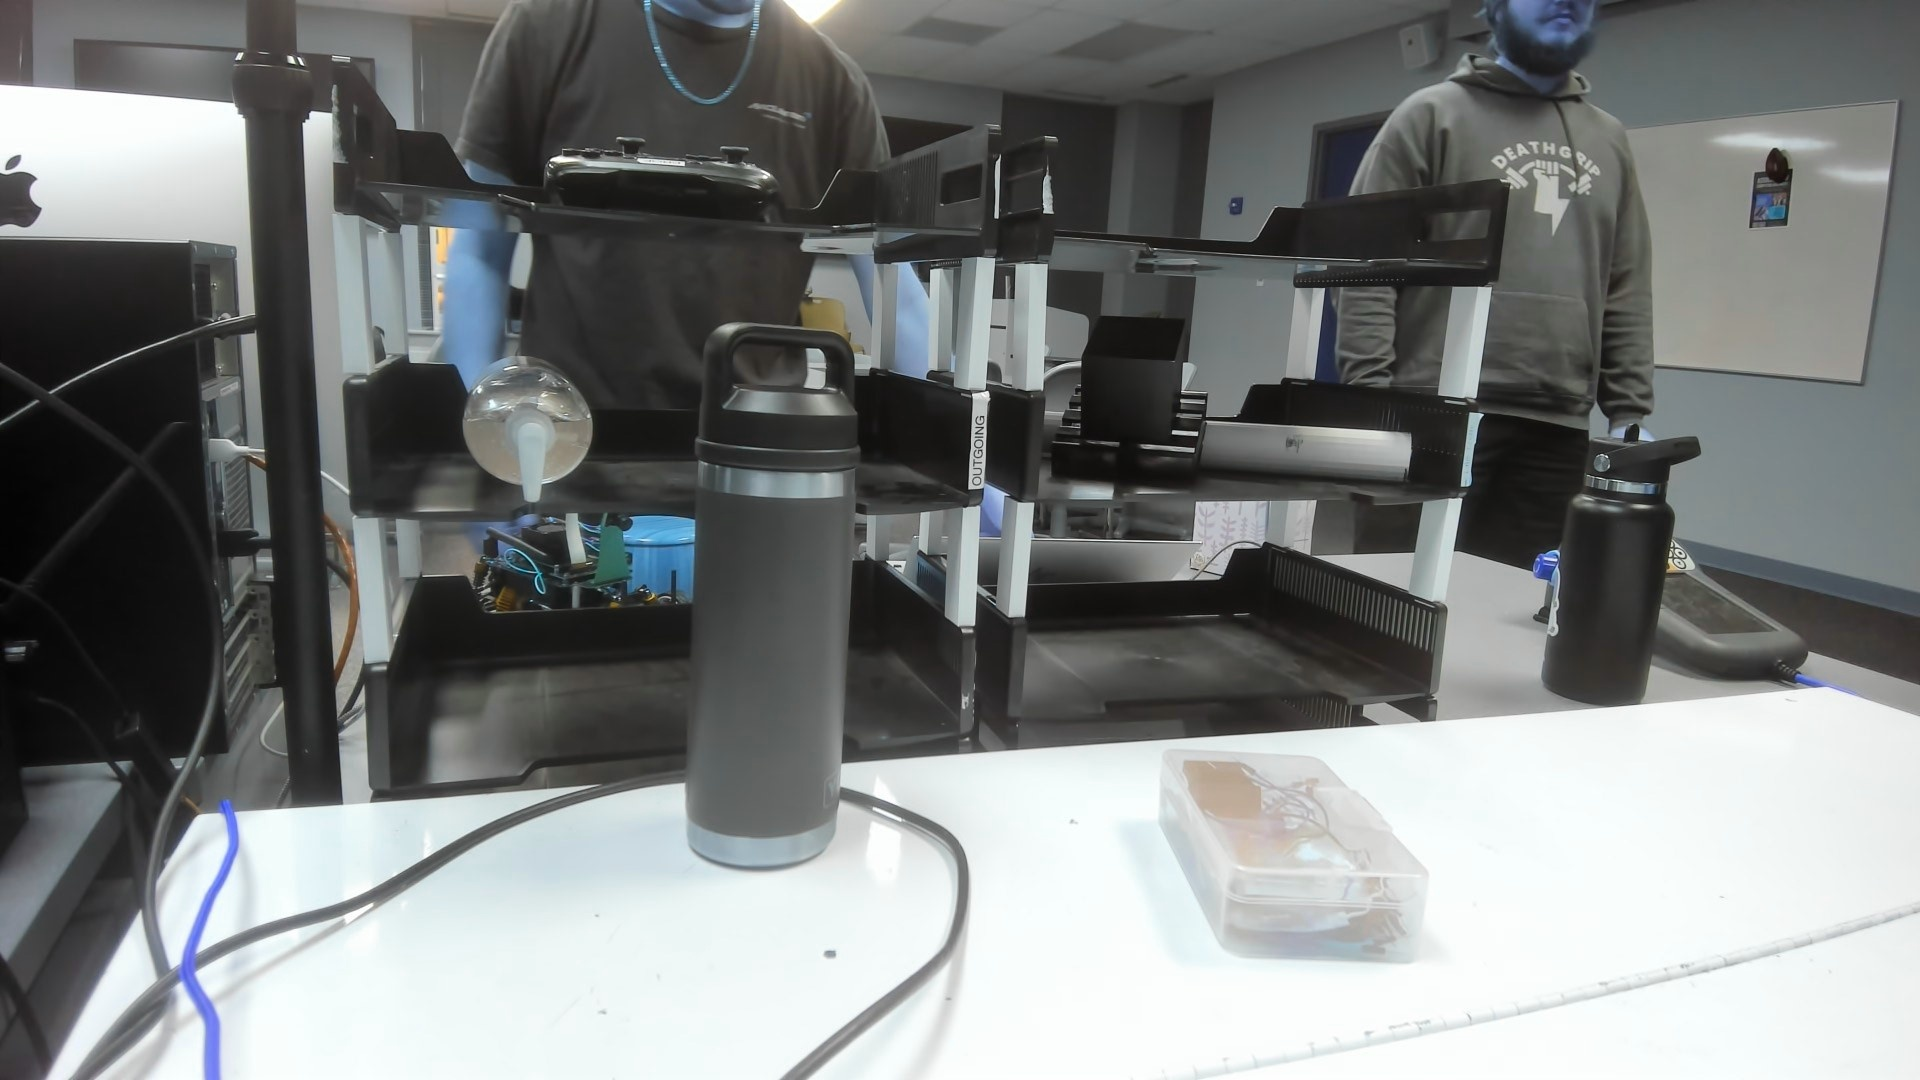black pallet: (1046, 313, 1217, 495)
